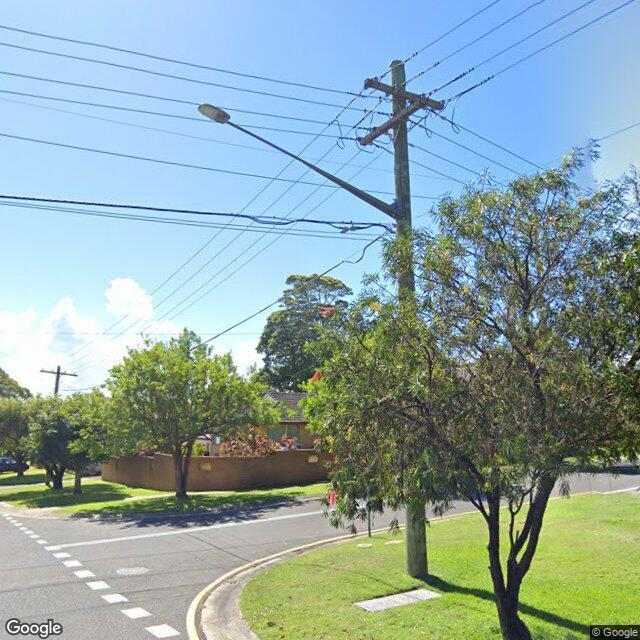crossarm: (357, 100, 426, 147), (362, 78, 446, 112), (40, 369, 78, 377)
streetlight: (198, 103, 404, 220)
timber-pole: (391, 61, 429, 580), (46, 364, 61, 486)
